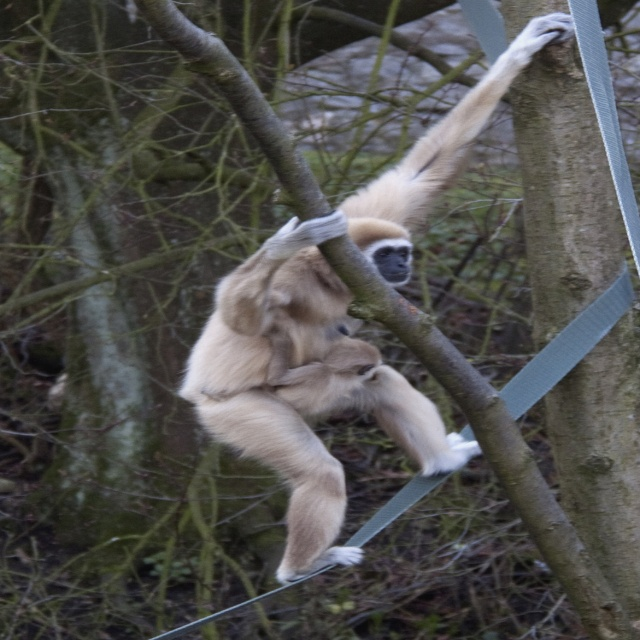Monkey: (176, 13, 574, 585)
